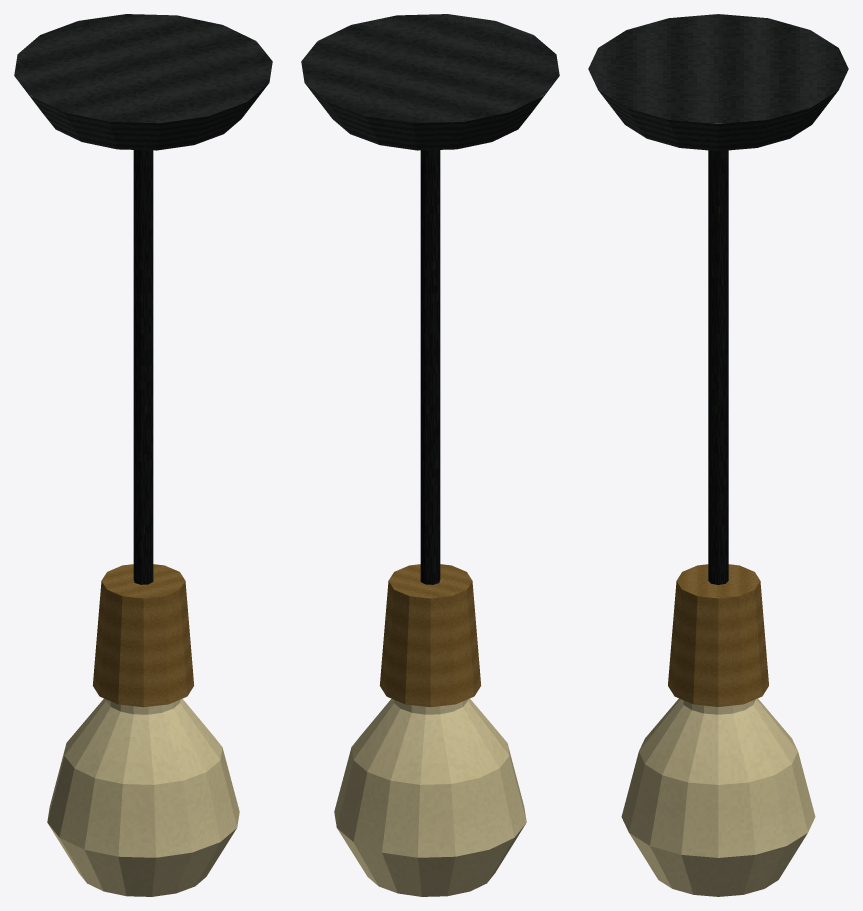
File: level_light_bare_bulb.glb
The picture shows the model from 3 angles, left to right: view 1: azimuth 30°, elevation 25°; view 2: azimuth 150°, elevation 25°; view 3: azimuth 270°, elevation 25°; orthographic projection.
Visible parts, largest first — view 1: level_light_bare_bulb; view 2: level_light_bare_bulb; view 3: level_light_bare_bulb.
Part boxes in pixels (x1,y1,x2,y2): level_light_bare_bulb: [14, 14, 272, 896]; level_light_bare_bulb: [301, 14, 559, 896]; level_light_bare_bulb: [588, 14, 848, 896].
Size of the model in its own units: 0.18 by 0.62 by 0.18.
Materials: 4 (4 with a texture image).
